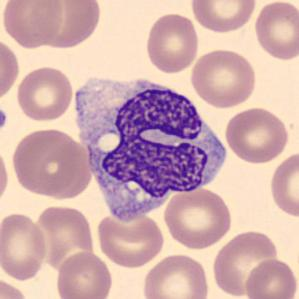Monocyte: (68, 68, 232, 224)
Platelets: (0, 107, 9, 132)
RBC: (9, 126, 88, 198), (210, 227, 282, 298), (162, 184, 234, 250), (30, 202, 96, 272), (94, 207, 166, 269), (188, 47, 258, 109), (26, 0, 104, 54), (223, 105, 291, 165), (144, 10, 200, 75), (14, 64, 75, 123), (0, 210, 49, 282), (140, 252, 211, 299), (0, 0, 65, 49), (54, 250, 115, 299), (252, 0, 298, 62), (188, 0, 258, 35), (243, 256, 298, 299), (267, 150, 299, 220), (0, 36, 21, 103), (0, 143, 12, 209), (0, 275, 31, 299)
